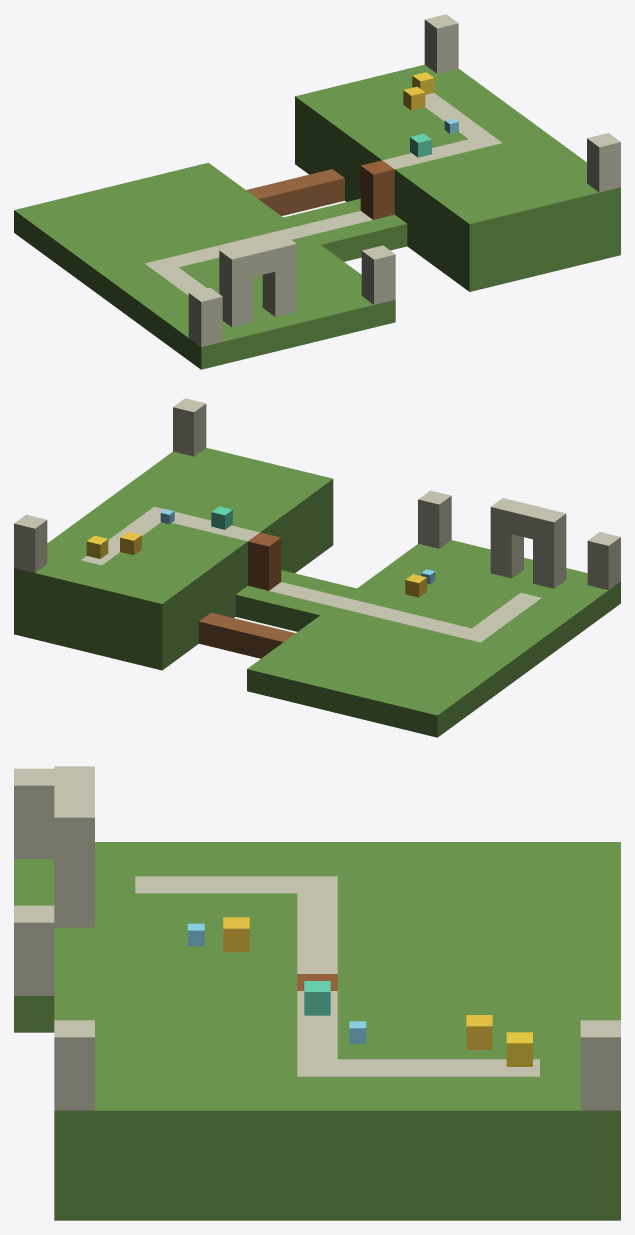
The model's file is course-0.obj.
3 renders of one model, top to bottom at view 1: azimuth 30°, elevation 25°; view 2: azimuth 150°, elevation 25°; view 3: azimuth 270°, elevation 25°, orthographic. The views are drawn at different scales.
Bounding box in the file's own units: 11 × 2.75 × 8.25.
Materials: 1 (1 with a texture image).
